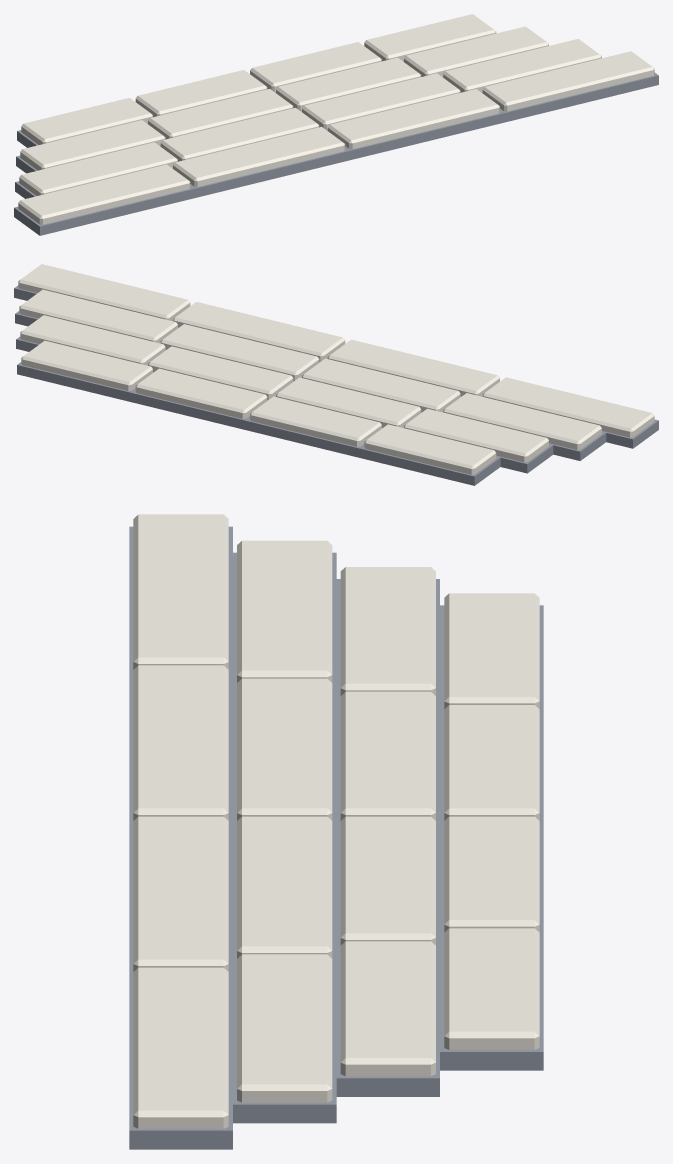
Rendered from deco_path_stone_to_road.glb.
3 renders of one model, top to bottom at view 1: azimuth 30°, elevation 25°; view 2: azimuth 150°, elevation 25°; view 3: azimuth 270°, elevation 25°, orthographic. The views are drawn at different scales.
Visible parts, largest first — view 1: deco_path_stone_to_road; view 2: deco_path_stone_to_road; view 3: deco_path_stone_to_road.
Boxes of the visible parts, x1=… form: deco_path_stone_to_road: x1=14, y1=14, x2=658, y2=235; deco_path_stone_to_road: x1=14, y1=264, x2=658, y2=485; deco_path_stone_to_road: x1=129, y1=514, x2=543, y2=1149.
Size of the model in its own units: 3.45 by 0.093 by 1.
Materials: 1 (1 with a texture image).
